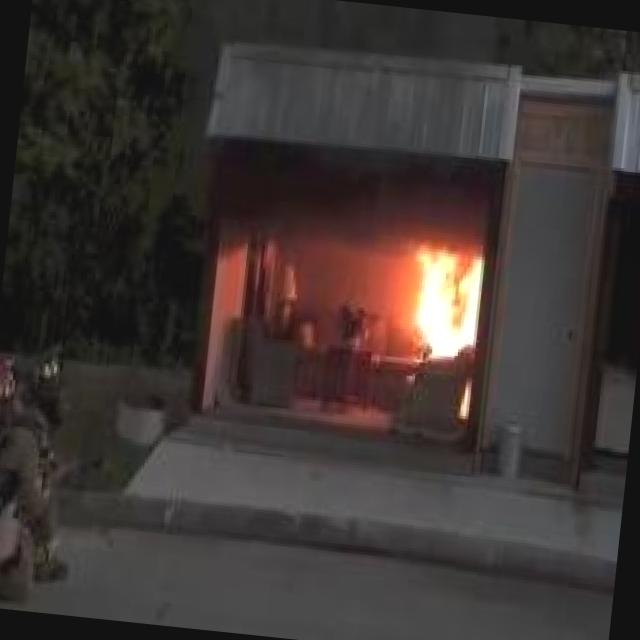fire: (390, 211, 504, 364)
